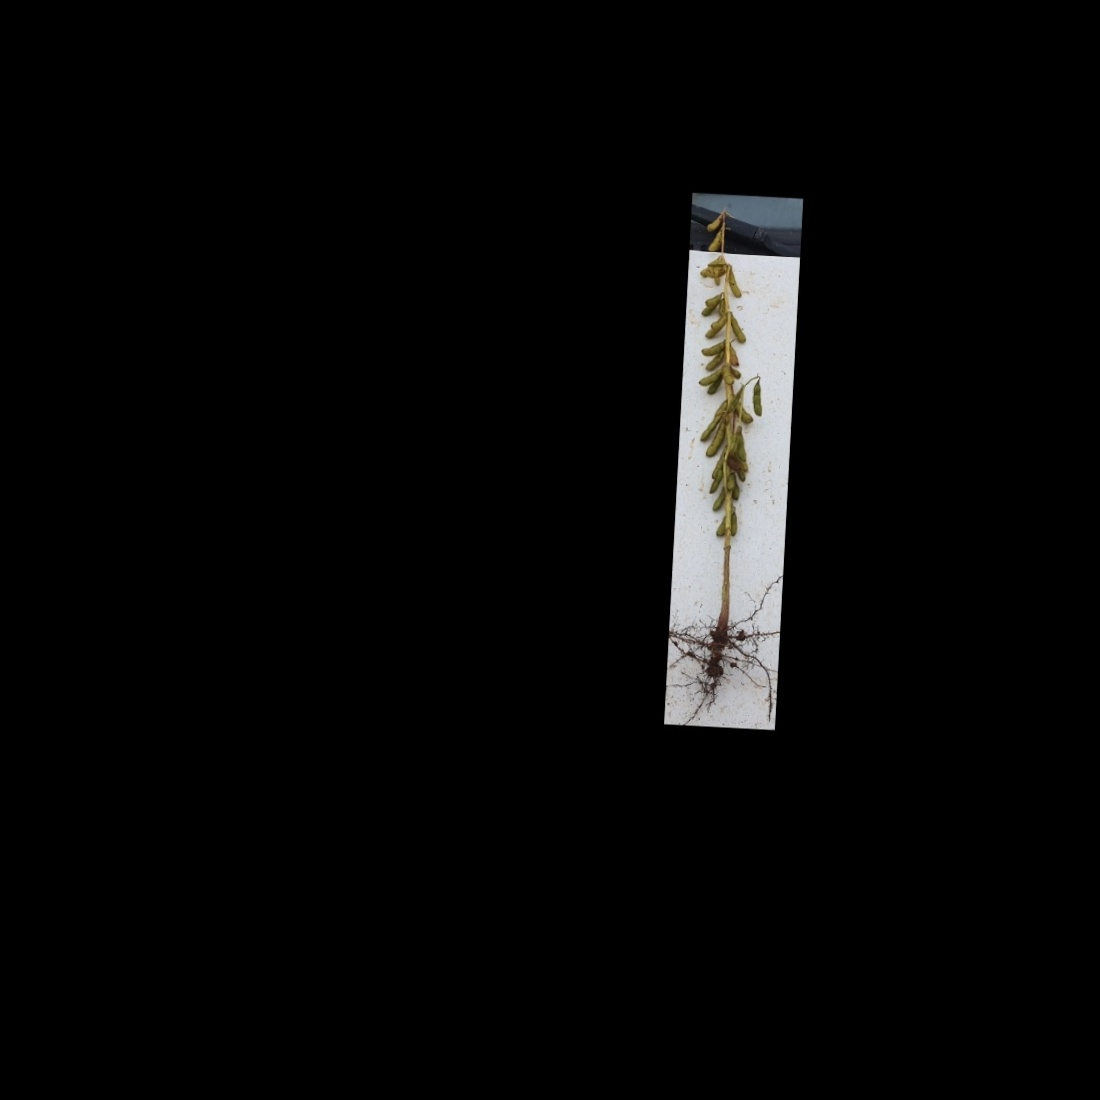pod: (705, 421, 724, 461), (728, 312, 749, 346), (748, 378, 766, 417), (726, 265, 745, 298), (706, 348, 726, 372), (712, 484, 726, 512), (708, 227, 723, 253), (715, 514, 729, 541), (721, 363, 736, 387), (730, 511, 741, 537)
soy: (671, 200, 789, 702)
